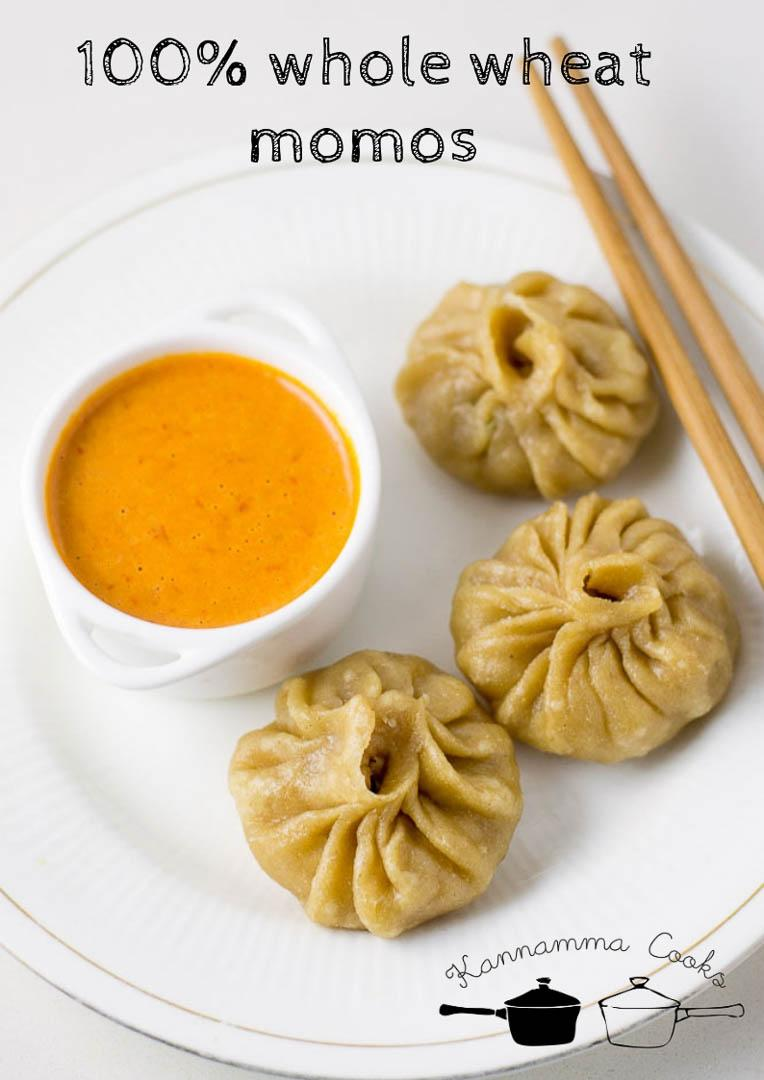momos: (230, 650, 523, 938), (451, 494, 740, 764), (394, 272, 658, 498)
